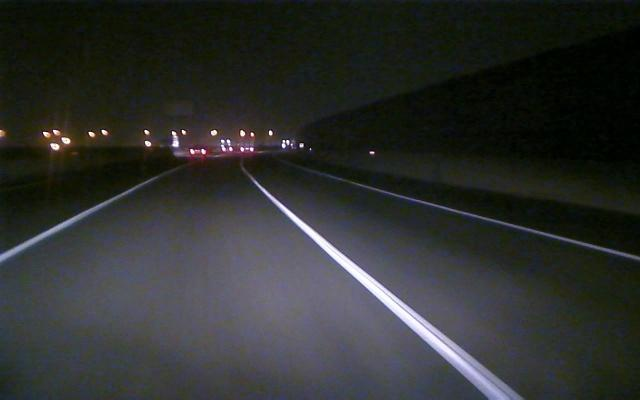lane: (253, 181, 521, 396), (358, 184, 640, 263), (0, 178, 155, 266)
